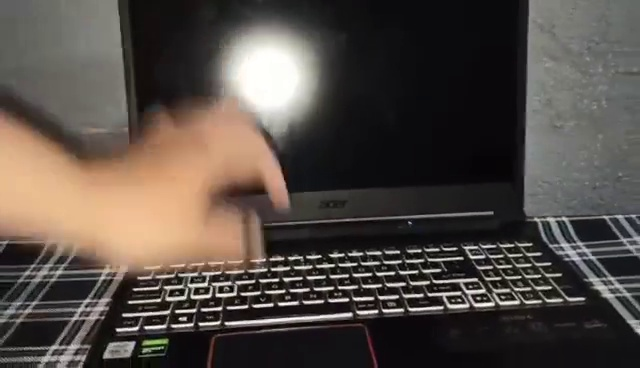laptop: (85, 1, 640, 368)
